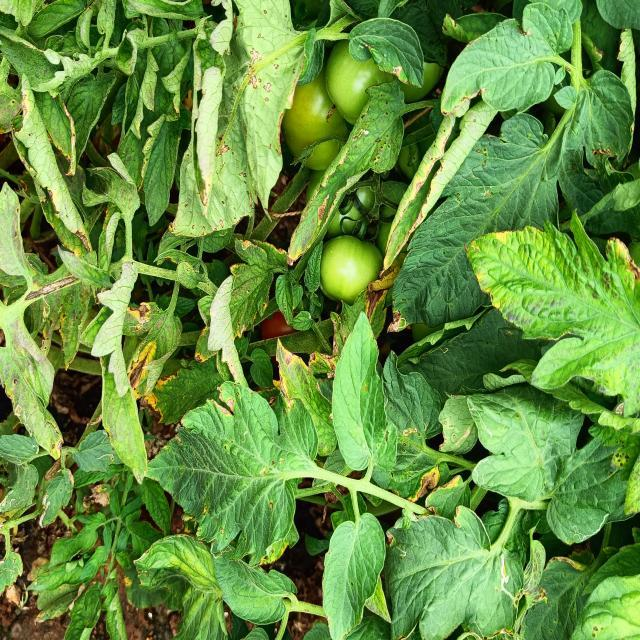Tomato mosaic virus leaf: (147, 381, 316, 576), (166, 0, 296, 245), (10, 74, 95, 264), (306, 274, 388, 384), (336, 78, 408, 198), (119, 296, 184, 409), (384, 436, 442, 508)
